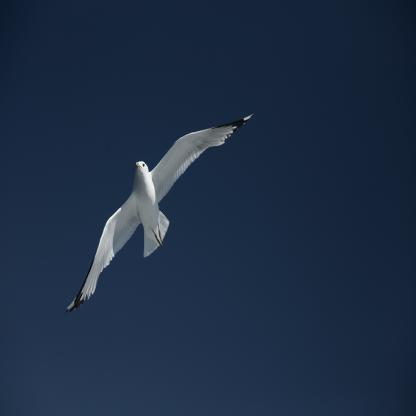bird: (64, 113, 255, 312)
